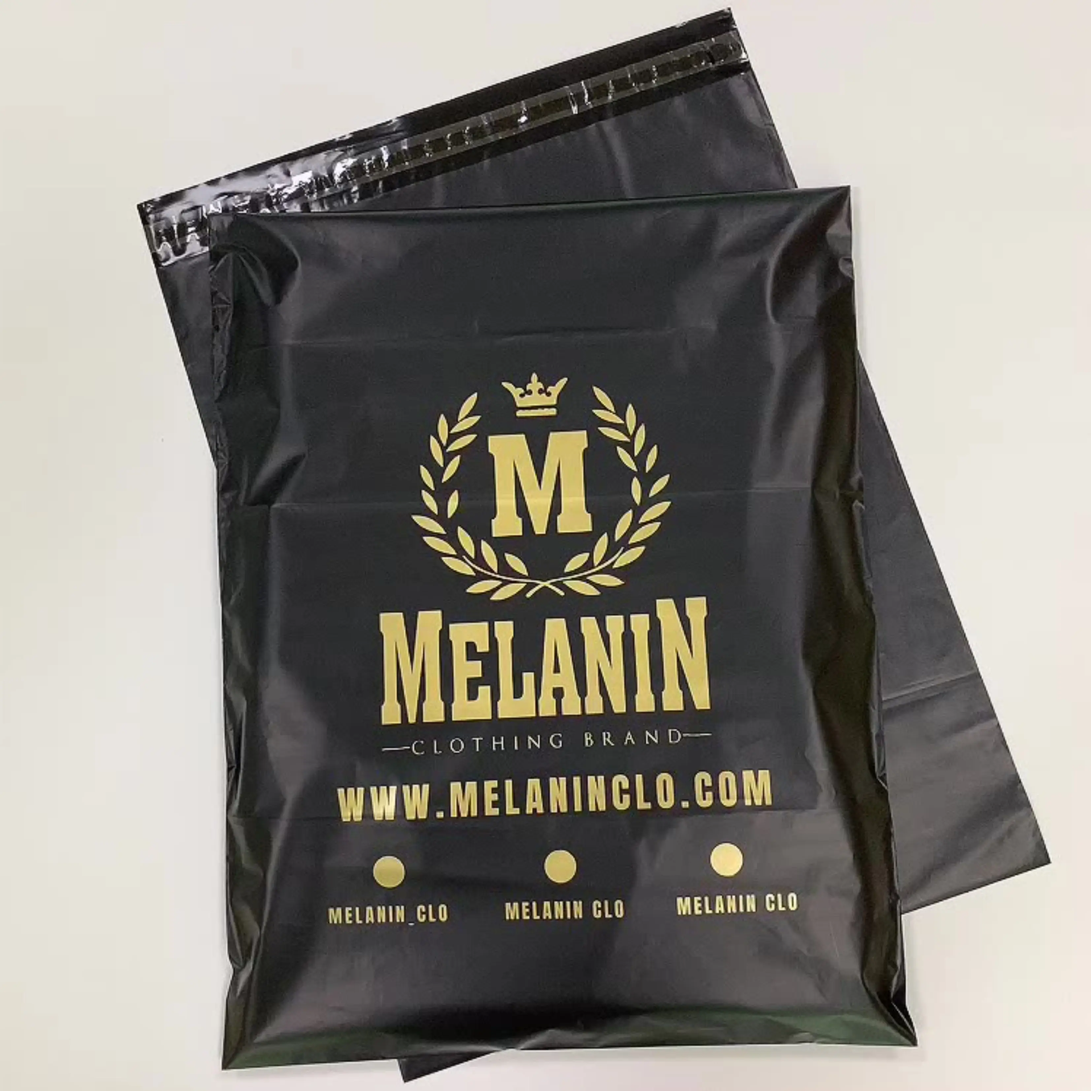Parcel: (141, 12, 1049, 1085)
